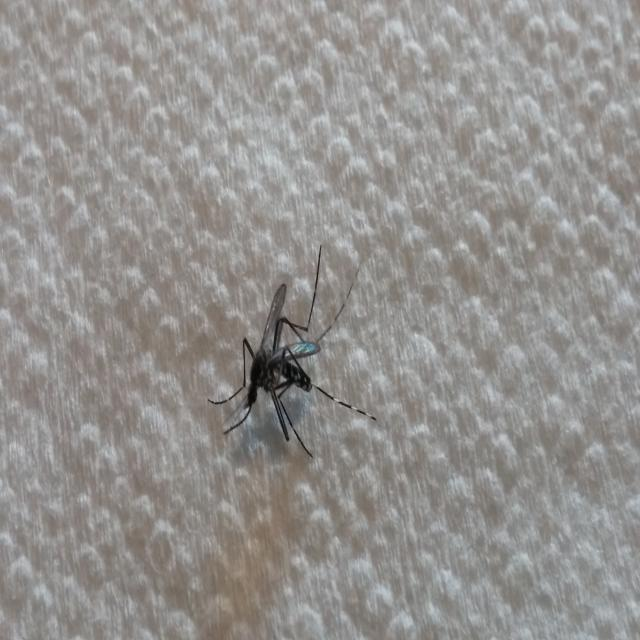albopictus: (202, 235, 377, 468)
